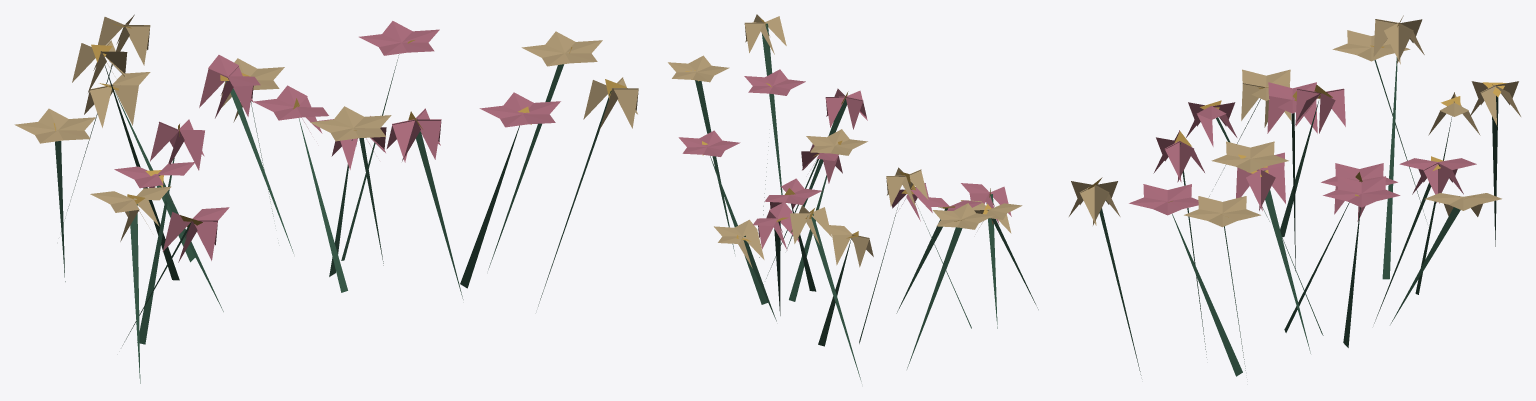
Rendered from vegetation-flowers.lod2.glb.
The picture shows the model from 3 angles, left to right: view 1: azimuth 30°, elevation 25°; view 2: azimuth 150°, elevation 25°; view 3: azimuth 270°, elevation 25°; orthographic projection. The views are drawn at different scales.
Parts seen in each view (by area): view 1: vegetation-flowers__body; view 2: vegetation-flowers__body; view 3: vegetation-flowers__body.
Boxes of the visible parts, left/top/right/bottom form: vegetation-flowers__body: left=14, top=14, right=638, bottom=383; vegetation-flowers__body: left=668, top=14, right=1038, bottom=381; vegetation-flowers__body: left=1069, top=15, right=1520, bottom=376.
Bounding box in the file's own units: 1.43 × 0.6837 × 1.21.
